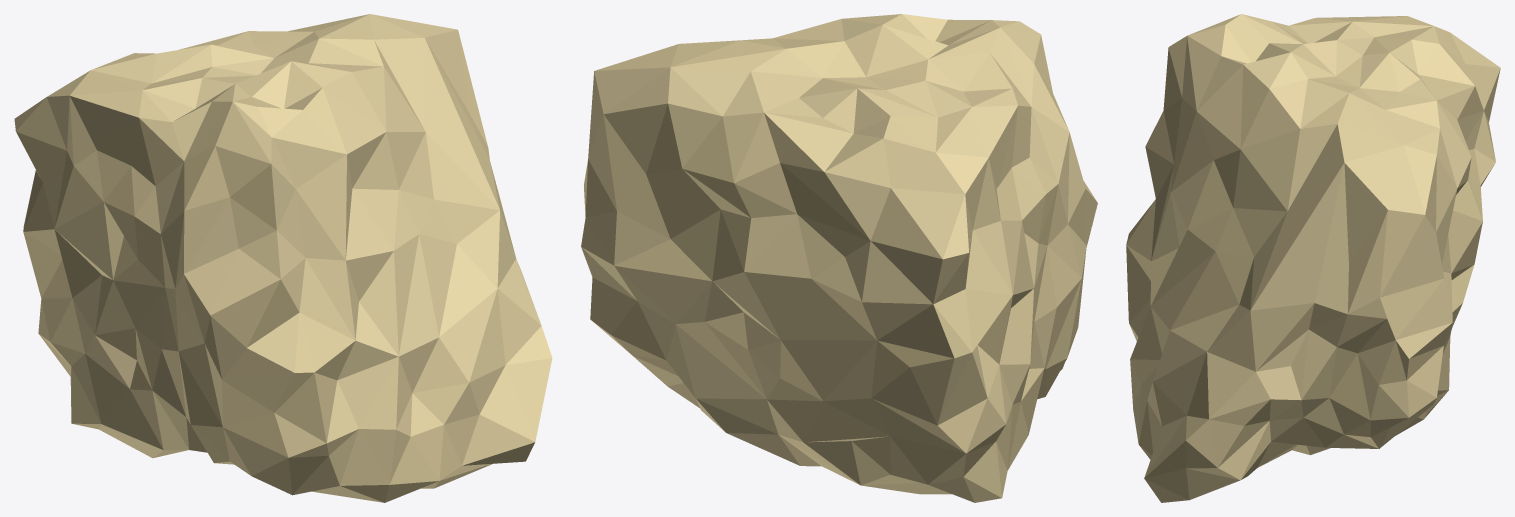
Rendered from Asteroid (26).fbx.
The picture shows the model from 3 angles, left to right: view 1: azimuth 30°, elevation 25°; view 2: azimuth 150°, elevation 25°; view 3: azimuth 270°, elevation 25°; orthographic projection. The views are drawn at different scales.
Visible parts, largest first — view 1: Asteroid172; view 2: Asteroid172; view 3: Asteroid172.
Part boxes in pixels (<box>): Asteroid172: <box>14,14,552,502</box>; Asteroid172: <box>581,14,1097,502</box>; Asteroid172: <box>1126,14,1500,502</box>.
Size of the model in its own units: 483 by 459 by 404.
